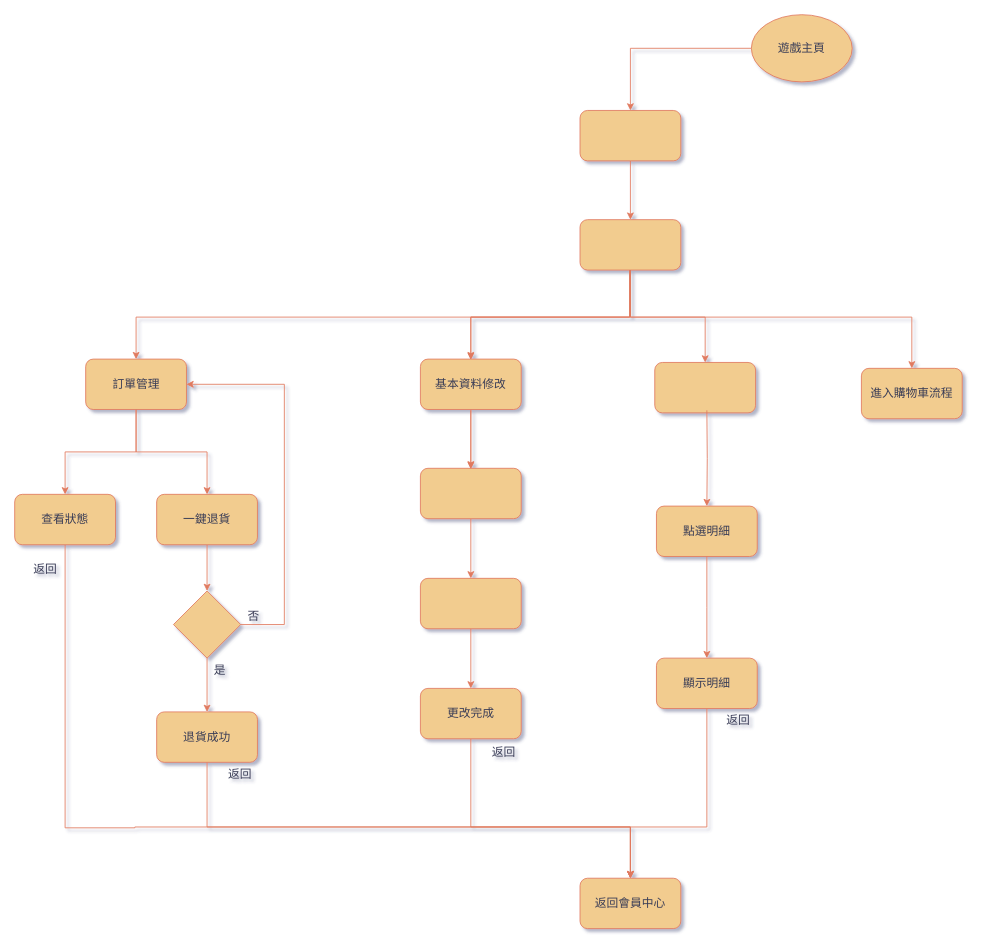
This 982x948 diagram has some shape labels left out. The shapes that lost their labels are listed below. From the top down, each one's centre as x and y in pixels, then its label:
At point (630, 135): "購物商城".
At point (630, 244): "會員中心 操作登入流程後 返回至此".
At point (705, 387): "消費紀錄".
At point (470, 493): "修改密碼".
At point (470, 603): "發送重設碼到信箱".
At point (207, 624): "確認是否 退貨".
